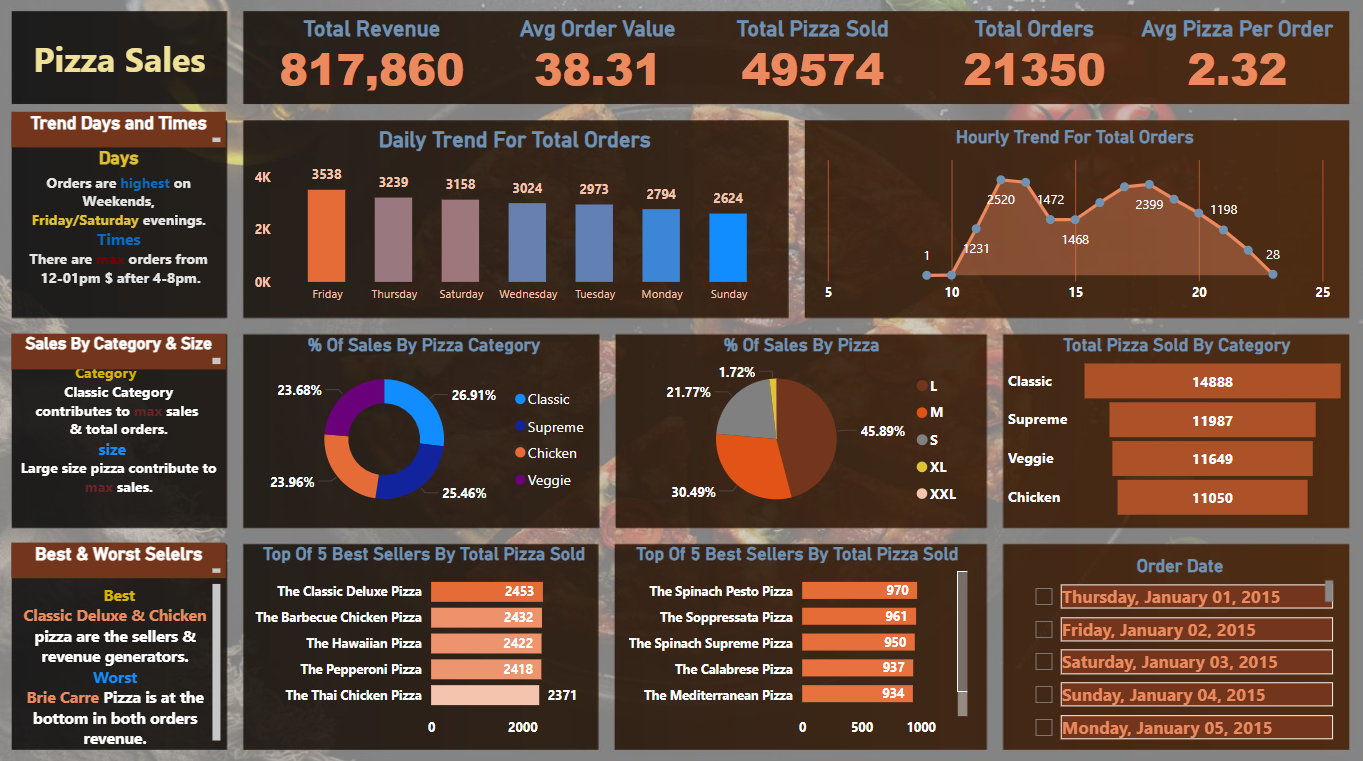

Layout of this report page (visuals, bound fields, positions):
{"tool":"powerbi","page":{"name":"Page 1","canvas":[1280,720],"ordinal":0},"visuals":[{"type":"card","title":"Total Revenue","fields":{"Values":["pizza_sales.Total_Revenue"]},"box":[252.4,16,196.5,75.1],"z":0},{"type":"card","title":"Avg Order Value","fields":{"Values":["pizza_sales.Avg_Order_Value"]},"box":[471.3,16,183.7,75.1],"z":1000},{"type":"card","title":"Total Pizza Sold","fields":{"Values":["pizza_sales.Total_Pizzas_Sold"]},"box":[669.4,16,188.5,75.1],"z":2000},{"type":"card","title":"Total Orders","fields":{"Values":["pizza_sales.Total_Orders"]},"box":[877.1,16,190.1,75.1],"z":3000},{"type":"card","title":"Avg Pizza Per Order","fields":{"Values":["pizza_sales.Avg_Pizzas_per_Order"]},"box":[1067.2,16,190.1,75.1],"z":4000},{"type":"clusteredColumnChart","title":"Daily Trend For Total Orders","fields":{"Category":["pizza_sales.Order_Day"],"Y":["pizza_sales.Total_Orders"]},"box":[235.8,118.7,497.9,174.8],"z":5000},{"type":"lineChart","title":"Hourly Trend For Total Orders","fields":{"Category":["pizza_sales.Order_Hour"],"Y":["pizza_sales.Total_Orders"]},"box":[763.4,118.7,493,174.8],"z":6000},{"type":"donutChart","title":"% Of Sales By Pizza Category","fields":{"Category":["pizza_sales.pizza_category"],"Y":["pizza_sales.PCT_By_Category"]},"box":[235.8,313.3,328.1,178.1],"z":7000},{"type":"pieChart","title":"% Of Sales By Pizza ","fields":{"Y":["pizza_sales.PCT_By_Size"],"Category":["pizza_sales.pizza_size"]},"box":[595.2,313.3,318.2,178.1],"z":8000},{"type":"funnel","title":"Total Pizza Sold By Category","fields":{"Y":["pizza_sales.Total_Pizzas_Sold"],"Category":["pizza_sales.pizza_category"]},"box":[941.5,313.3,326.5,178.1],"z":9000},{"type":"barChart","title":"Top Of 5 Best Sellers By Total Pizza Sold","fields":{"Category":["pizza_sales.pizza_name"],"Y":["pizza_sales.Total_Pizzas_Sold"]},"box":[235.8,509.5,328.1,192.9],"z":10000},{"type":"barChart","title":"Top Of 5 Best Sellers By Total Pizza Sold","fields":{"Category":["pizza_sales.pizza_name"],"Y":["pizza_sales.Total_Pizzas_Sold"]},"box":[585.3,509.5,328.1,192.9],"z":11000},{"type":"slicer","title":"Order Date","fields":{"Values":["pizza_sales.order_date"]},"box":[959.6,521,296.8,181.4],"z":12000},{"type":"textbox","title":"Trend Days and Times","box":[13.2,105.5,201.2,33],"z":13000},{"type":"textbox","title":"Days ","box":[13.2,138.5,201.2,155],"z":14000},{"type":"textbox","box":[13.2,336.4,201.2,155],"z":15000},{"type":"textbox","title":"Sales By Category & Size","box":[13.2,313.3,201.2,33],"z":16000},{"type":"textbox","title":"Best & Worst Selelrs ","box":[13.2,509.5,201.2,33],"z":17000},{"type":"textbox","box":[13.2,542.5,201.2,159.9],"z":18000},{"type":"textbox","box":[29.7,29.7,173.1,75.8],"z":19000}]}

Visuals, with their boxes in screenshot pixels (x1, y1, x2, y2), scaled from the page's 1280x720 canvas onto the 1363x761 screenshot:
"Total Revenue" card: BBox(269, 17, 478, 96)
"Avg Order Value" card: BBox(502, 17, 697, 96)
"Total Pizza Sold" card: BBox(713, 17, 914, 96)
"Total Orders" card: BBox(934, 17, 1136, 96)
"Avg Pizza Per Order" card: BBox(1136, 17, 1339, 96)
"Daily Trend For Total Orders" clusteredColumnChart: BBox(251, 125, 781, 310)
"Hourly Trend For Total Orders" lineChart: BBox(813, 125, 1338, 310)
"% Of Sales By Pizza Category" donutChart: BBox(251, 331, 600, 519)
"% Of Sales By Pizza " pieChart: BBox(634, 331, 973, 519)
"Total Pizza Sold By Category" funnel: BBox(1003, 331, 1350, 519)
"Top Of 5 Best Sellers By Total Pizza Sold" barChart: BBox(251, 539, 600, 742)
"Top Of 5 Best Sellers By Total Pizza Sold" barChart: BBox(623, 539, 973, 742)
"Order Date" slicer: BBox(1022, 551, 1338, 742)
"Trend Days and Times" textbox: BBox(14, 112, 228, 146)
"Days " textbox: BBox(14, 146, 228, 310)
textbox: BBox(14, 356, 228, 519)
"Sales By Category & Size" textbox: BBox(14, 331, 228, 366)
"Best & Worst Selelrs " textbox: BBox(14, 539, 228, 573)
textbox: BBox(14, 573, 228, 742)
textbox: BBox(32, 31, 216, 112)
